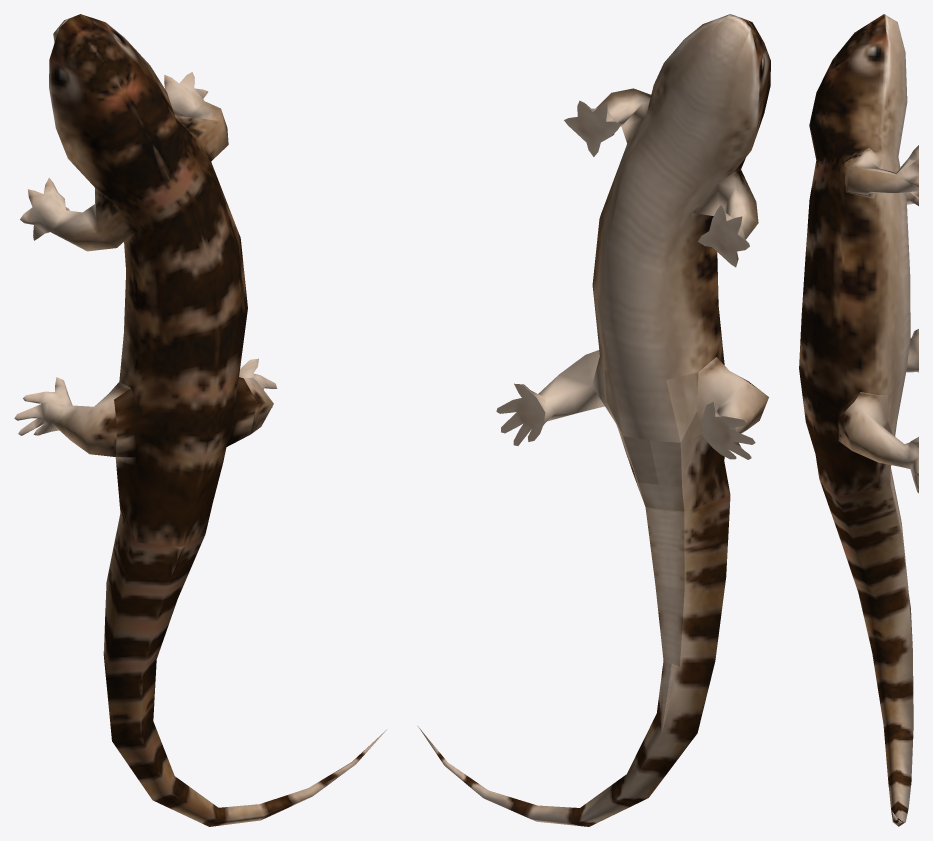
Rendered from MaLuBian_01_bihu_01.FBX.
3 views of the same model, side by side, from view 1: azimuth 30°, elevation 25°; view 2: azimuth 150°, elevation 25°; view 3: azimuth 270°, elevation 25° (orthographic). The views are drawn at different scales.
Parts seen in each view (by area): view 1: MaLuBian_01_bihu_01; view 2: MaLuBian_01_bihu_01; view 3: MaLuBian_01_bihu_01.
Boxes of the visible parts, x1,y1,x2,y2 form: MaLuBian_01_bihu_01: [14, 14, 386, 826]; MaLuBian_01_bihu_01: [418, 14, 770, 826]; MaLuBian_01_bihu_01: [799, 14, 918, 826].
Bounding box in the file's own units: 68.85 × 157 × 23.75.
